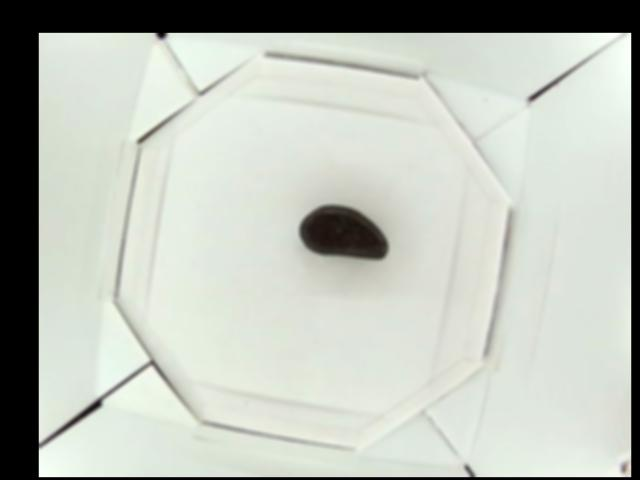Pebble: (298, 205, 389, 259)
